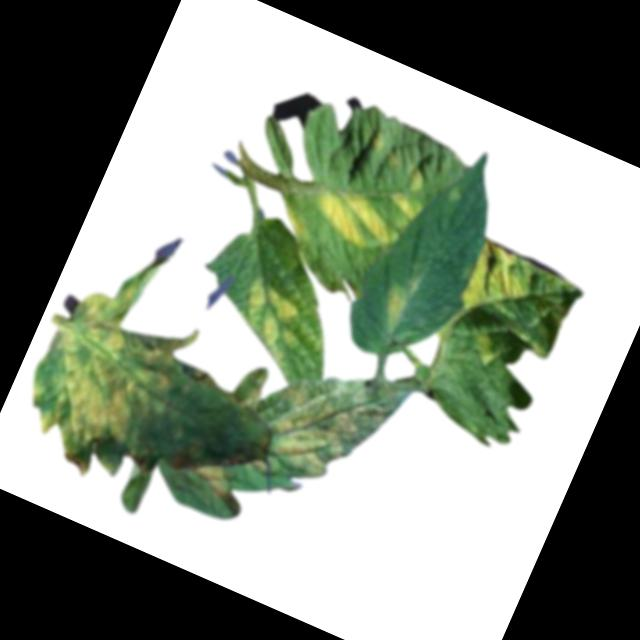Leaf_Mold: (16, 266, 207, 476), (254, 365, 386, 492), (220, 270, 315, 368), (455, 234, 543, 329), (305, 181, 400, 258), (383, 160, 440, 225), (228, 358, 274, 413), (187, 453, 238, 499), (374, 280, 416, 333), (464, 328, 503, 371)
